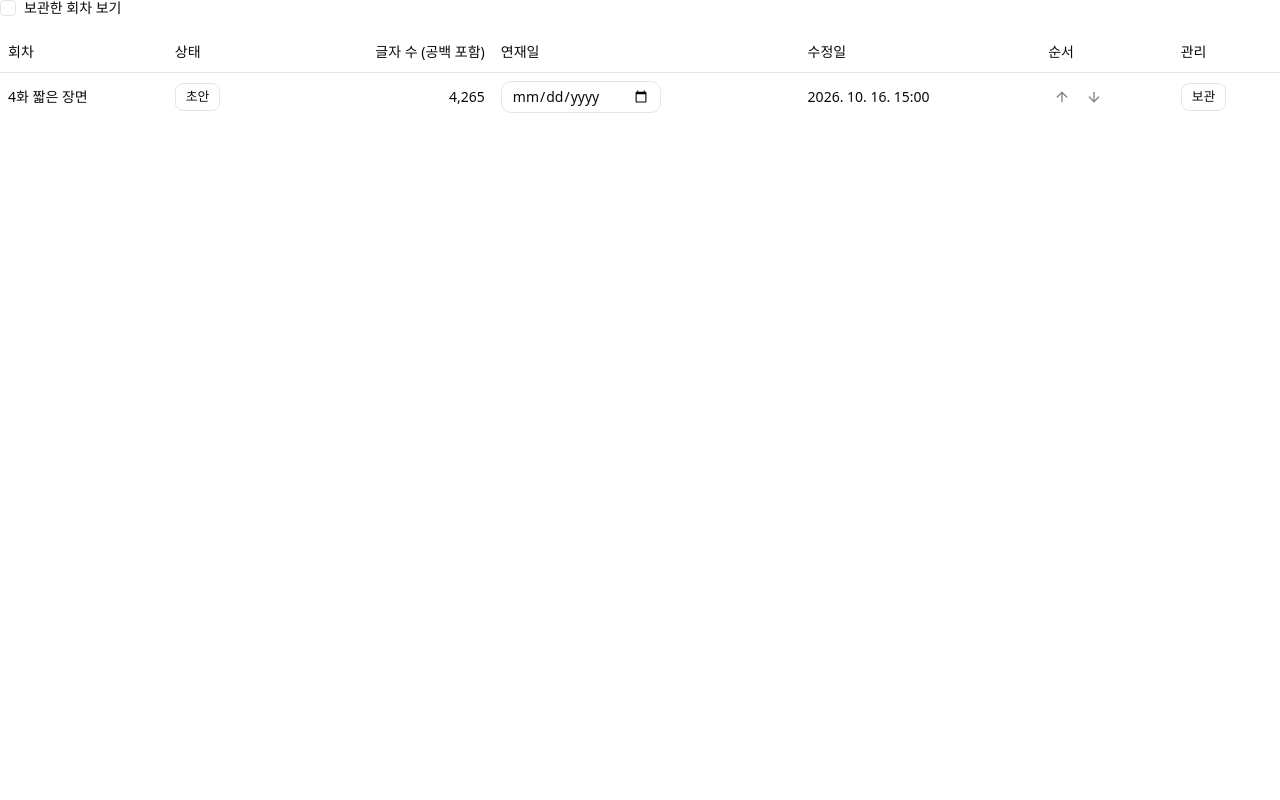
ChapterTable › completing a chapter under the target length › keeps the draft status when the author chooses to keep writing
Click the button with aria-label "4화 상태 바꾸기": (198, 96) [175,82,220,110]
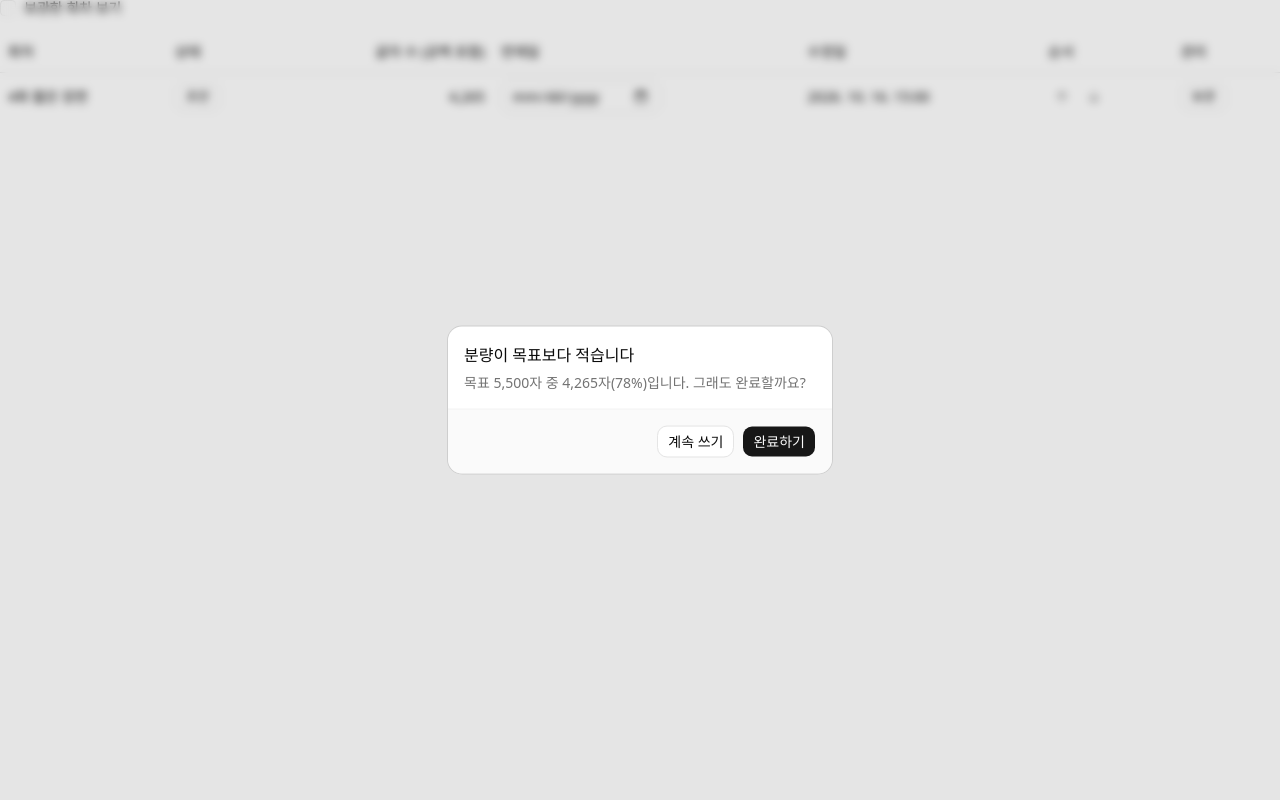
Click the button "계속 쓰기": (696, 442) [657,426,734,458]
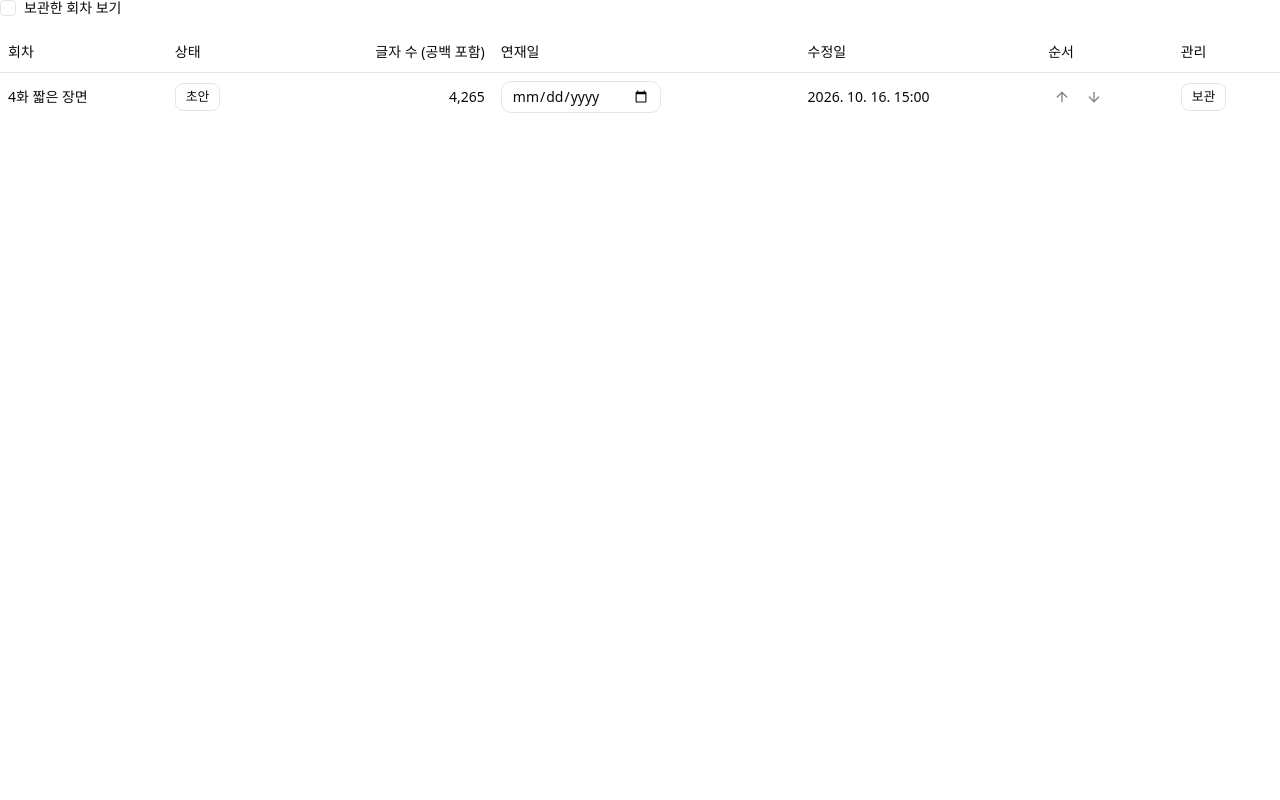
expect the dialog is gone: met
